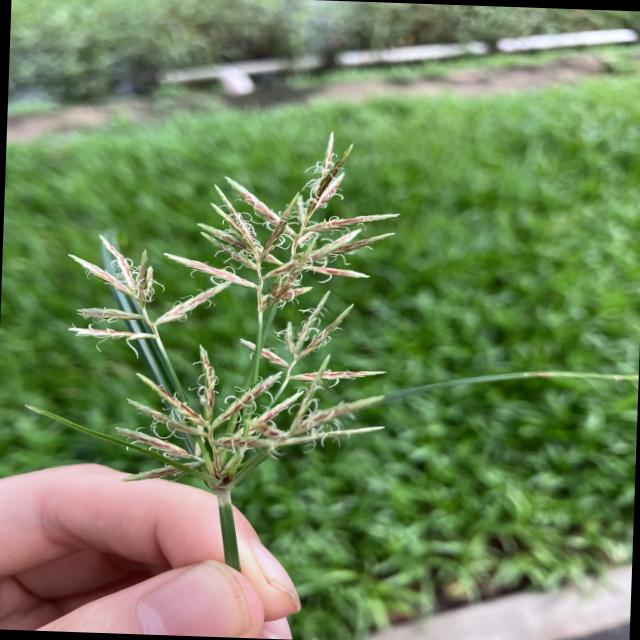cyperus: (42, 116, 410, 508)
